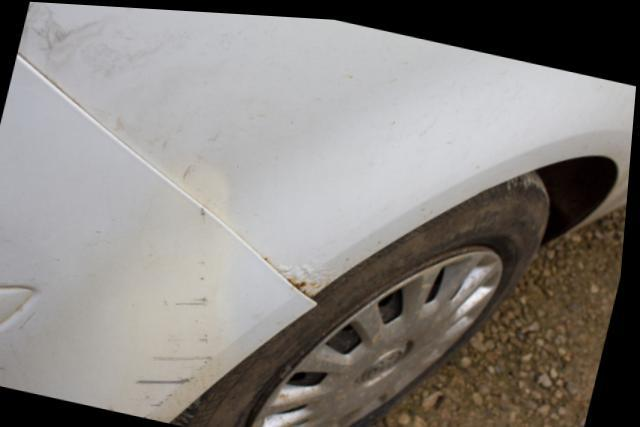scratch: (117, 238, 221, 416)
